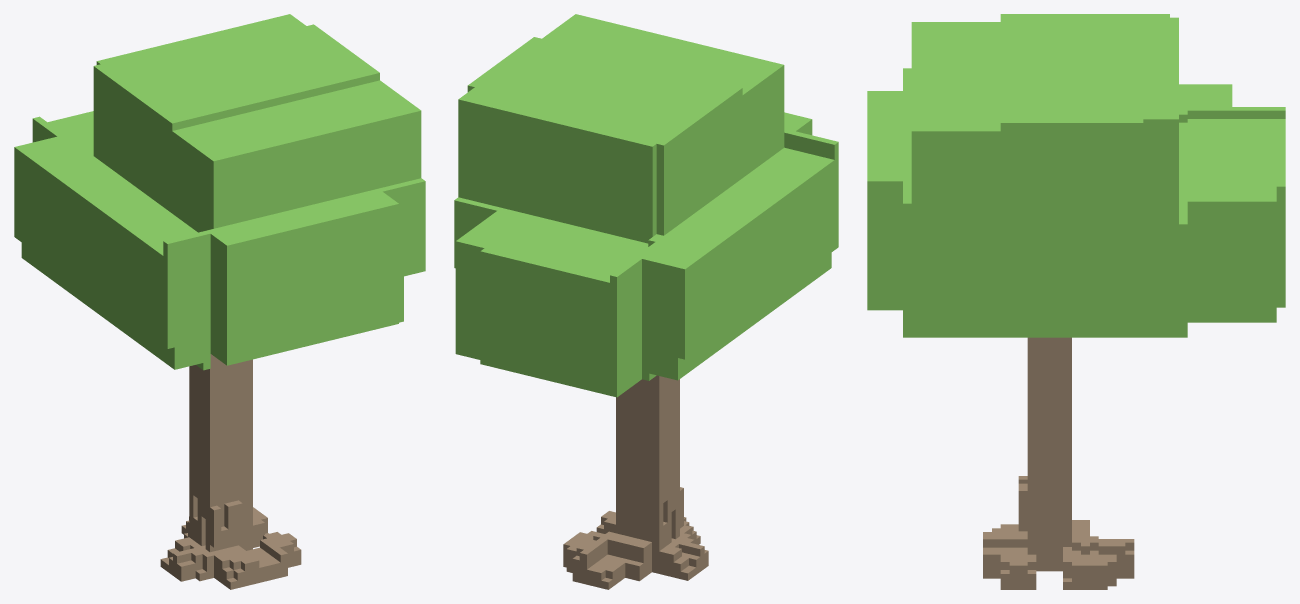
Rendered from plains_tree.obj.
The picture shows the model from 3 angles, left to right: view 1: azimuth 30°, elevation 25°; view 2: azimuth 150°, elevation 25°; view 3: azimuth 270°, elevation 25°; orthographic projection. The views are drawn at different scales.
Bounding box in the file's own units: 3.6 × 6.3 × 4.7.
Materials: 1 (1 with a texture image).
